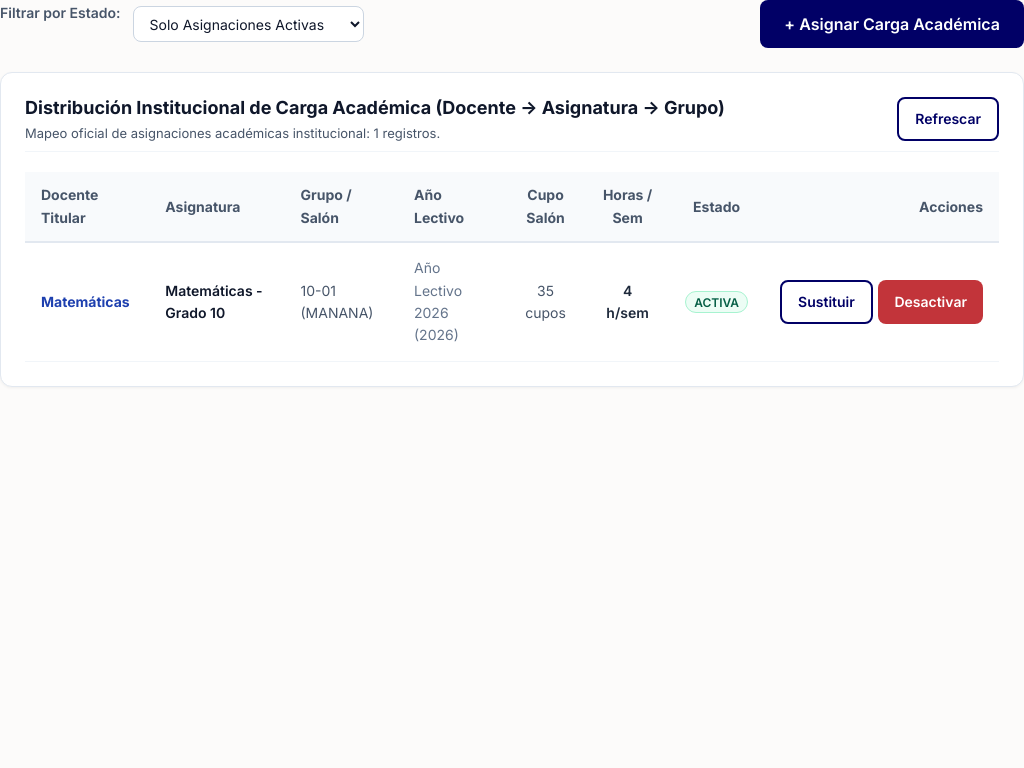
it: Academic Management Views › allows opening create modal and renders resolved selectors for Teacher, Year, Group, Subject
Click the button "+ Asignar Carga Académica": [892, 24] box [760,0,1023,48]
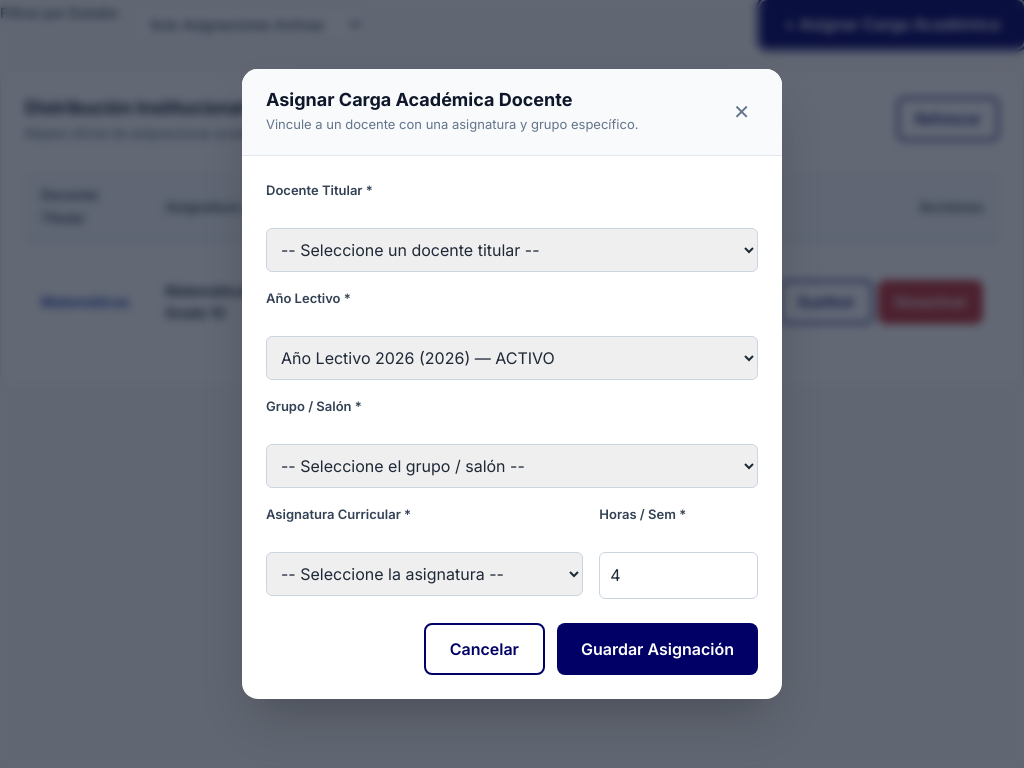
Now the heading "Asignar Carga Académica Docente" is shown, box [266,88,572,110]
